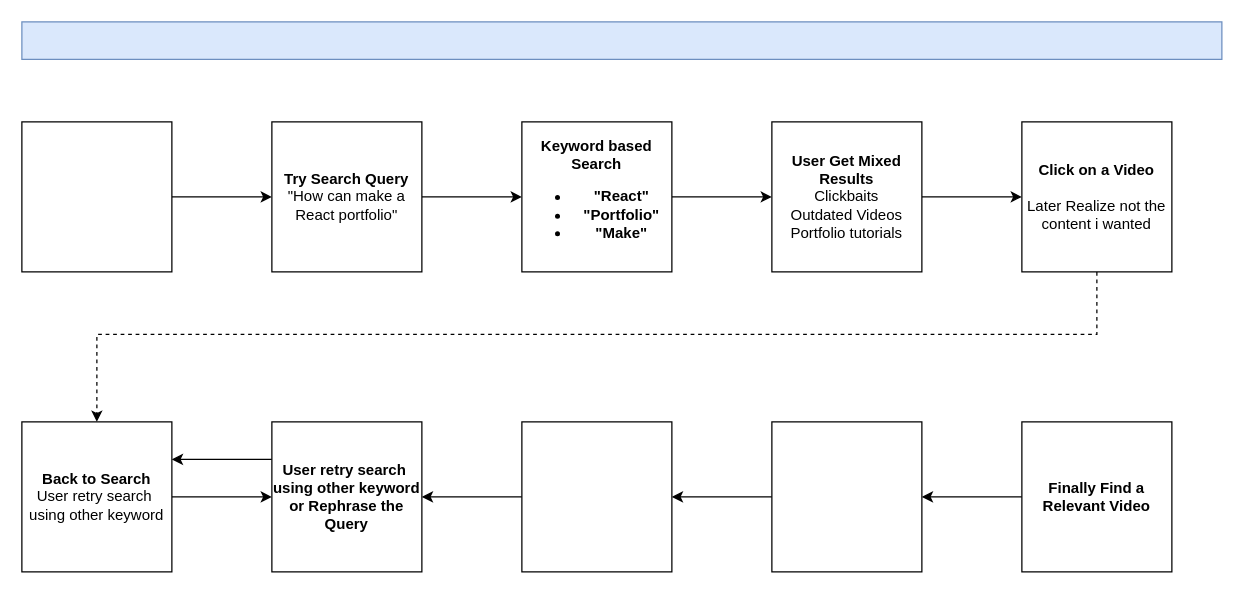
This 1244x594 diagram has some shape labels left out. Here are the shapes that lost their labels. From the top down, the box of each, then its label:
(21, 21, 1222, 59): Keyword based Search Experience
(21, 121, 172, 272): OPEN Youtube
(521, 421, 672, 572): Repeat or Scroll thorugh the results
(771, 421, 922, 572): User find the process very Frustrating
